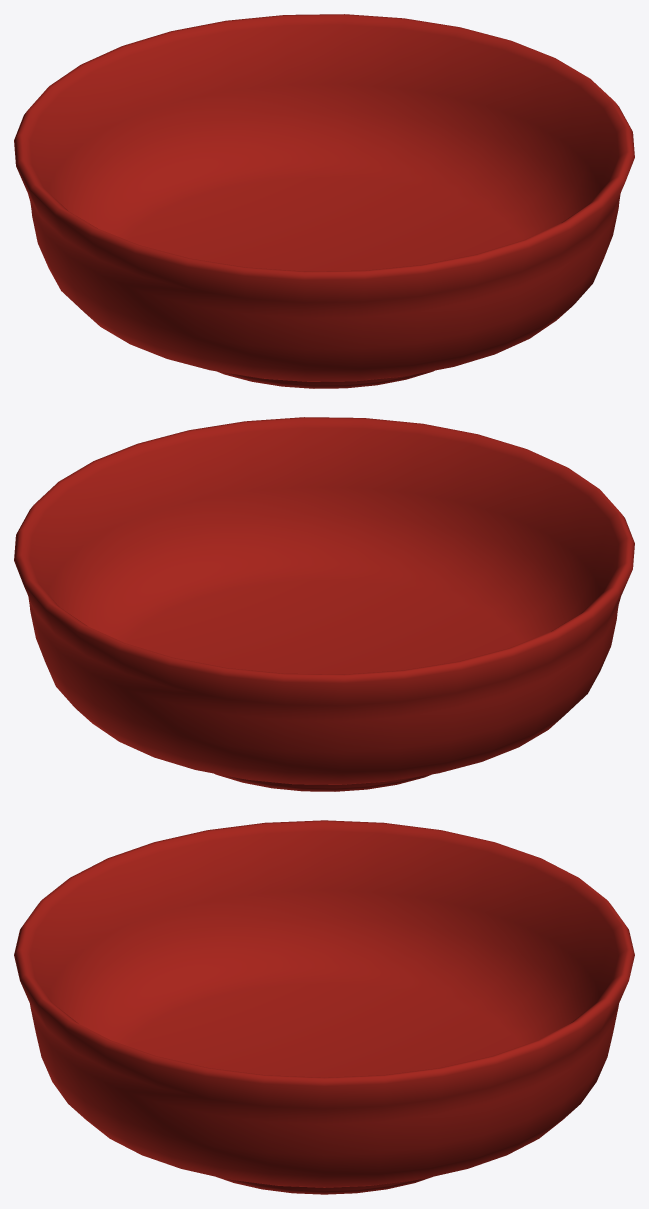
Rendered from bowl.fbx.
3 views of the same model, one above another, from view 1: azimuth 30°, elevation 25°; view 2: azimuth 150°, elevation 25°; view 3: azimuth 270°, elevation 25° (orthographic).
Parts seen in each view (by area): view 1: bowl; view 2: bowl; view 3: bowl.
Part boxes in pixels (bbox=[...]): bowl: bbox=[14, 14, 634, 388]; bowl: bbox=[14, 417, 634, 791]; bowl: bbox=[14, 820, 634, 1194].
Size of the model in its own units: 432 by 138 by 432.
